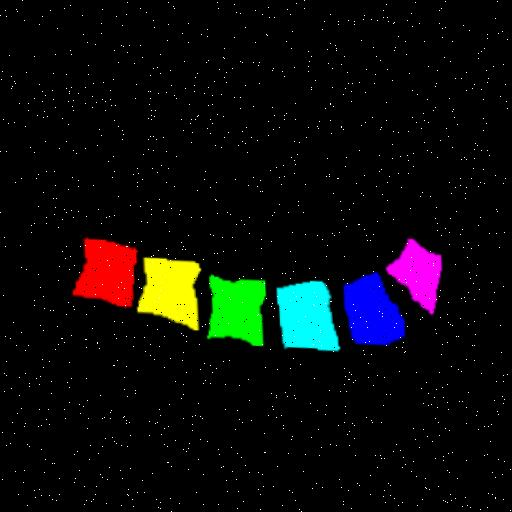L1: (74, 236, 137, 303)
L2: (138, 254, 200, 325)
L3: (209, 271, 265, 340)
L4: (277, 275, 339, 343)
L5: (344, 265, 405, 336)
S1: (387, 229, 442, 305)
